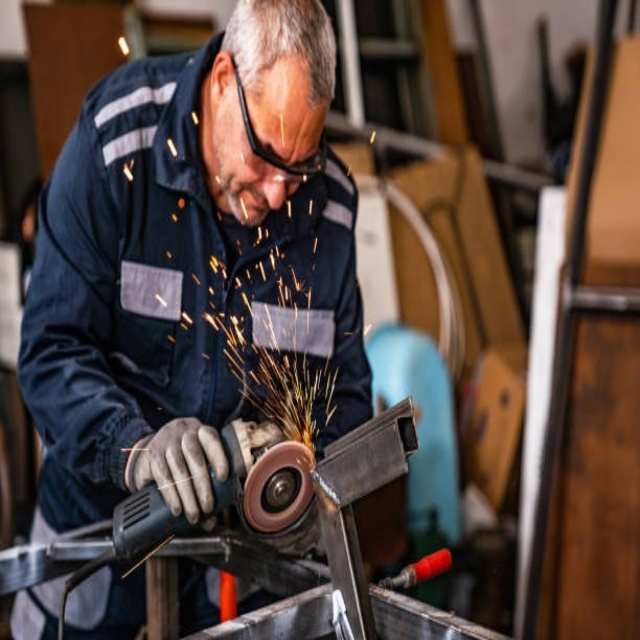Gafas: (233, 55, 326, 180)
Guantes: (126, 416, 235, 523)
Sin_mascara: (229, 180, 280, 231)
